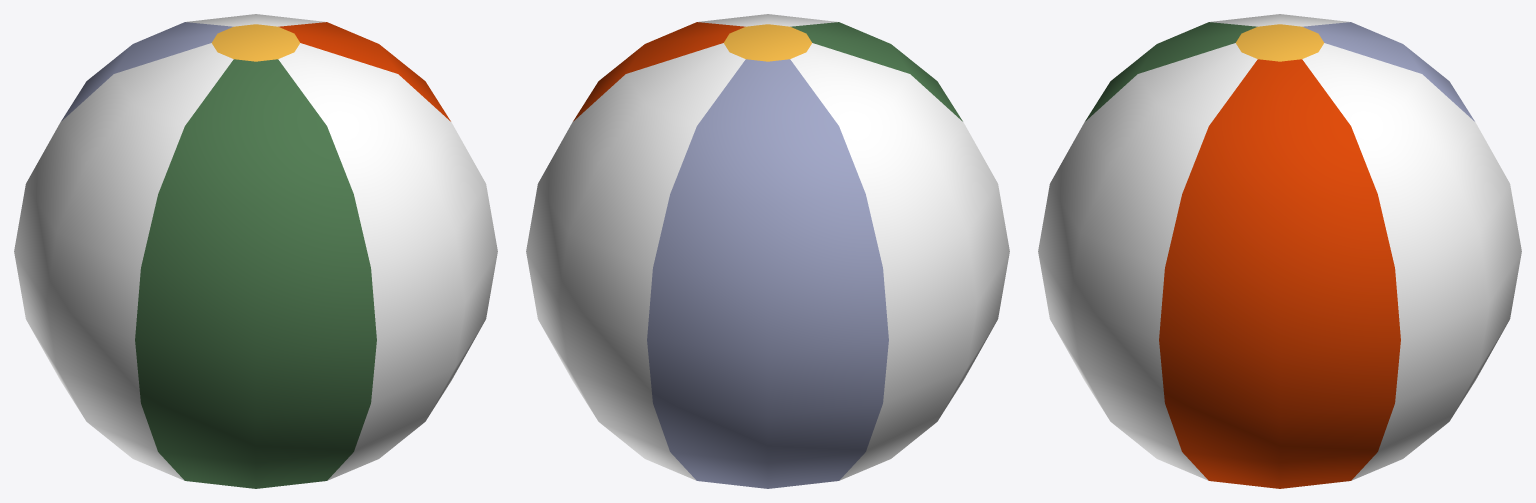
The model's file is Beach Ball_1.fbx.
3 renders of one model, left to right at view 1: azimuth 30°, elevation 25°; view 2: azimuth 150°, elevation 25°; view 3: azimuth 270°, elevation 25°, orthographic.
Visible parts, largest first — view 1: Beach Ball_1; view 2: Beach Ball_1; view 3: Beach Ball_1.
Boxes of the visible parts, x1,y1,x2,y2 form: Beach Ball_1: [14, 14, 497, 488]; Beach Ball_1: [526, 14, 1009, 488]; Beach Ball_1: [1038, 14, 1521, 488].
Bounding box in the file's own units: 0.1886 × 0.1794 × 0.1886.
